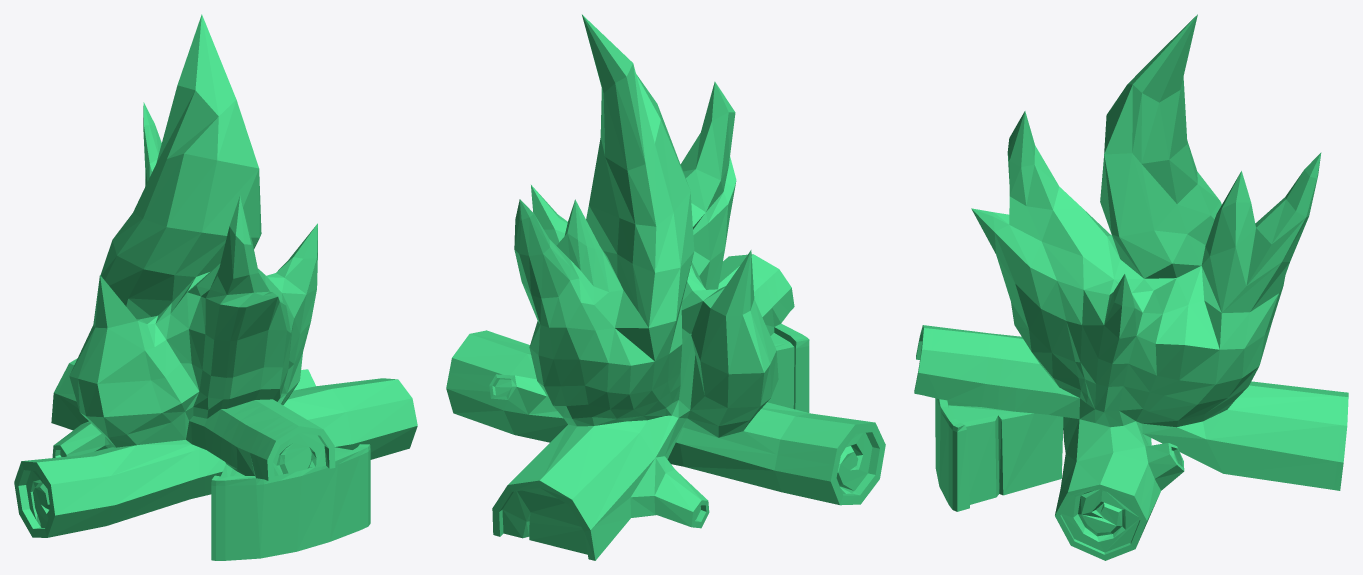
File: campfire.glb
3 renders of one model, left to right at view 1: azimuth 30°, elevation 25°; view 2: azimuth 150°, elevation 25°; view 3: azimuth 270°, elevation 25°, orthographic. The views are drawn at different scales.
Parts seen in each view (by area): view 1: firepit; view 2: firepit; view 3: firepit.
Part boxes in pixels (x1=…): firepit: x1=14, y1=14, x2=417, y2=560; firepit: x1=446, y1=14, x2=885, y2=560; firepit: x1=914, y1=14, x2=1348, y2=560.
Bounding box in the file's own units: 2.05 × 2.37 × 1.97.
